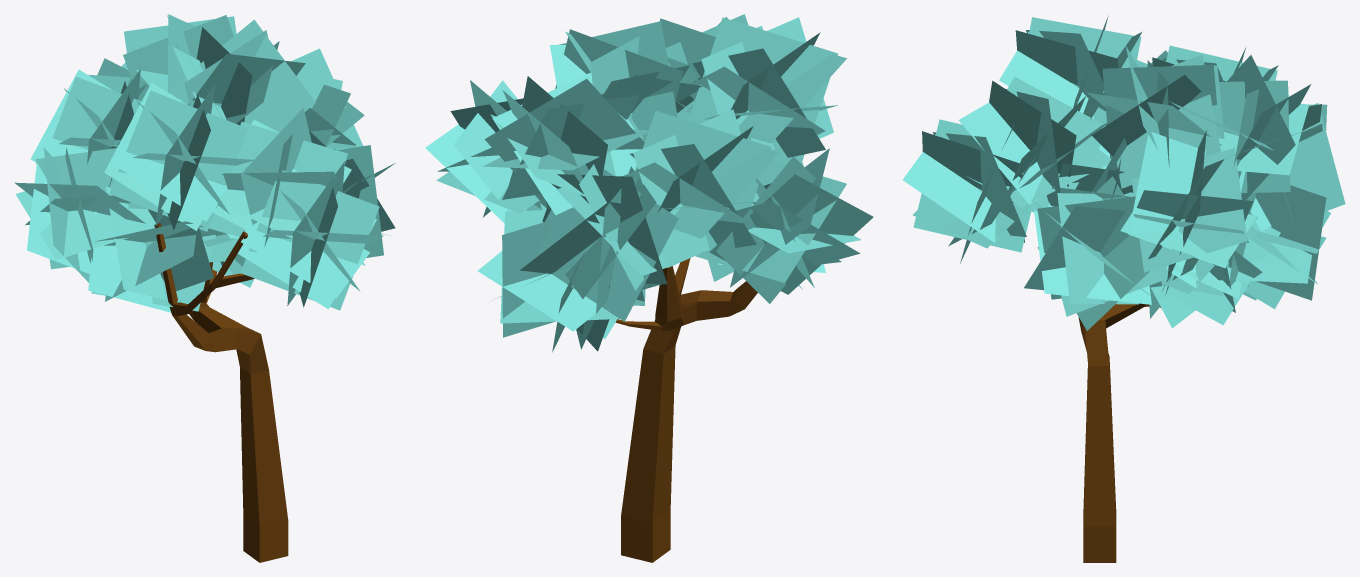
File: treeB.glb
The picture shows the model from 3 angles, left to right: view 1: azimuth 30°, elevation 25°; view 2: azimuth 150°, elevation 25°; view 3: azimuth 270°, elevation 25°; orthographic projection. The views are drawn at different scales.
Parts seen in each view (by area): view 1: Plane.022, trunk, Plane.023, Plane.015, Plane.021, Plane.025, Plane.011, Plane.026, Plane.014, Plane.019, Plane.017, Plane.024 (+1 smaller); view 2: Plane.022, Plane.024, Plane.026, trunk, Plane.014, Plane.015, Plane.021, Plane.016, Plane.019, Plane.011; view 3: Plane.019, Plane.017, Plane.023, Plane.011, Plane.021, Plane.014, Plane.022, trunk, Plane.016, Plane.018, Plane.024, Plane.027 (+2 smaller).
Part boxes in pixels (bbox=[...]): Plane.022: bbox=[104, 82, 254, 231]; trunk: bbox=[154, 223, 288, 562]; Plane.023: bbox=[237, 161, 383, 310]; Plane.015: bbox=[14, 147, 155, 282]; Plane.021: bbox=[170, 19, 315, 132]; Plane.025: bbox=[88, 186, 226, 314]; Plane.011: bbox=[209, 108, 351, 246]; Plane.026: bbox=[30, 69, 141, 186]; Plane.014: bbox=[123, 14, 236, 104]; Plane.019: bbox=[291, 48, 364, 149]; Plane.017: bbox=[309, 130, 395, 265]; Plane.024: bbox=[89, 58, 149, 101]; Plane.022: bbox=[688, 17, 846, 164]; Plane.024: bbox=[520, 152, 678, 321]; Plane.026: bbox=[623, 109, 779, 267]; trunk: bbox=[615, 258, 757, 562]; Plane.014: bbox=[483, 72, 648, 215]; Plane.015: bbox=[695, 148, 873, 303]; Plane.021: bbox=[550, 21, 702, 141]; Plane.016: bbox=[478, 207, 619, 352]; Plane.019: bbox=[425, 80, 539, 223]; Plane.011: bbox=[660, 14, 748, 120]; Plane.019: bbox=[1120, 130, 1256, 281]; Plane.017: bbox=[1024, 176, 1167, 330]; Plane.023: bbox=[902, 119, 1039, 263]; Plane.011: bbox=[958, 76, 1111, 212]; Plane.021: bbox=[1087, 46, 1224, 188]; Plane.014: bbox=[1169, 55, 1319, 200]; Plane.022: bbox=[999, 15, 1147, 125]; trunk: bbox=[1078, 303, 1160, 562]; Plane.016: bbox=[1197, 185, 1330, 309]; Plane.018: bbox=[1149, 221, 1280, 328]; Plane.024: bbox=[1250, 94, 1345, 231]; Plane.027: bbox=[1048, 138, 1130, 207].
Bounding box in the file's own units: 3.58 × 4.92 × 3.97.
